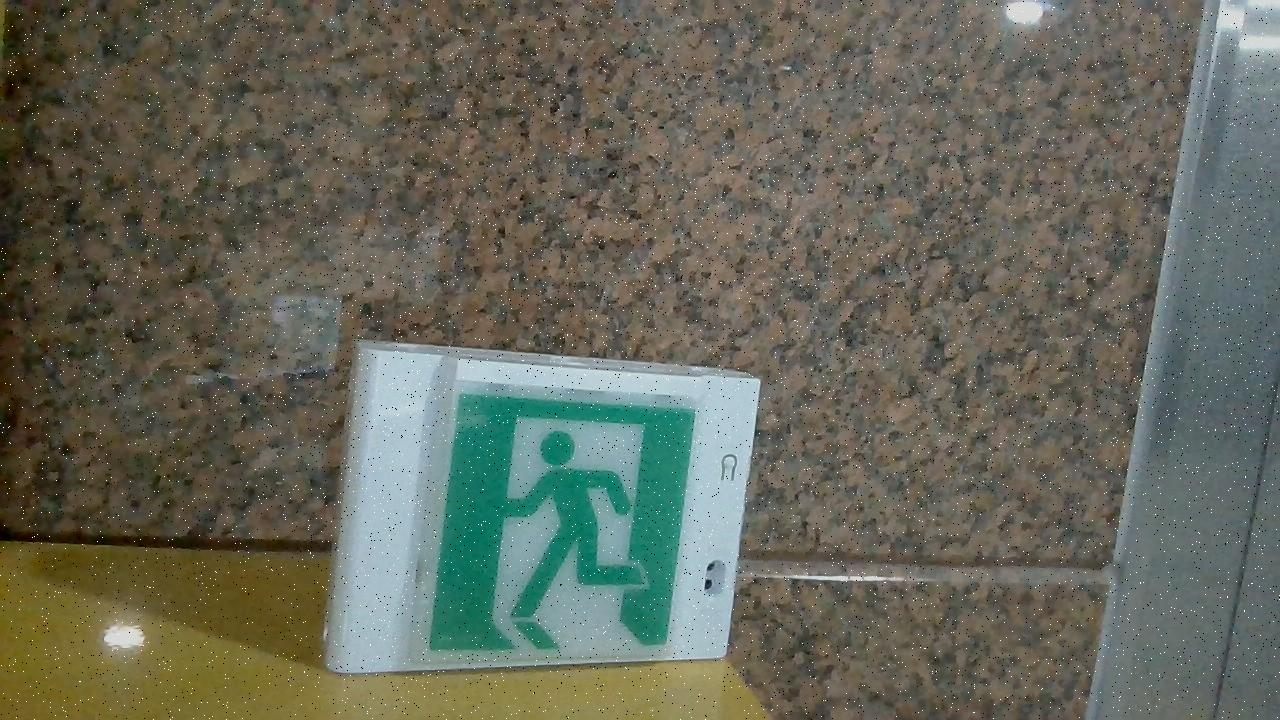emergency_exit: (322, 338, 762, 675)
